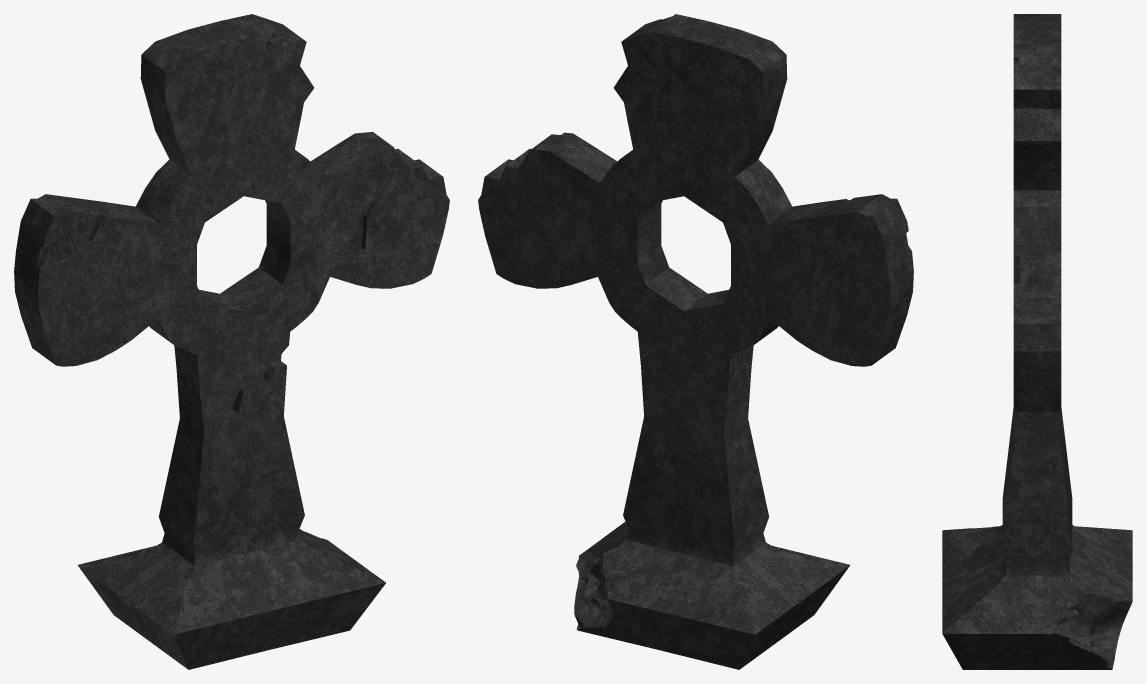
Rendered from grave1.fbx.
The picture shows the model from 3 angles, left to right: view 1: azimuth 30°, elevation 25°; view 2: azimuth 150°, elevation 25°; view 3: azimuth 270°, elevation 25°; orthographic projection.
Parts seen in each view (by area): view 1: Plane.005; view 2: Plane.005; view 3: Plane.005.
Boxes of the visible parts, x1=… form: Plane.005: x1=14, y1=14, x2=449, y2=669; Plane.005: x1=478, y1=14, x2=913, y2=669; Plane.005: x1=942, y1=14, x2=1132, y2=669.
Size of the model in its own units: 132 by 182 by 53.1.
